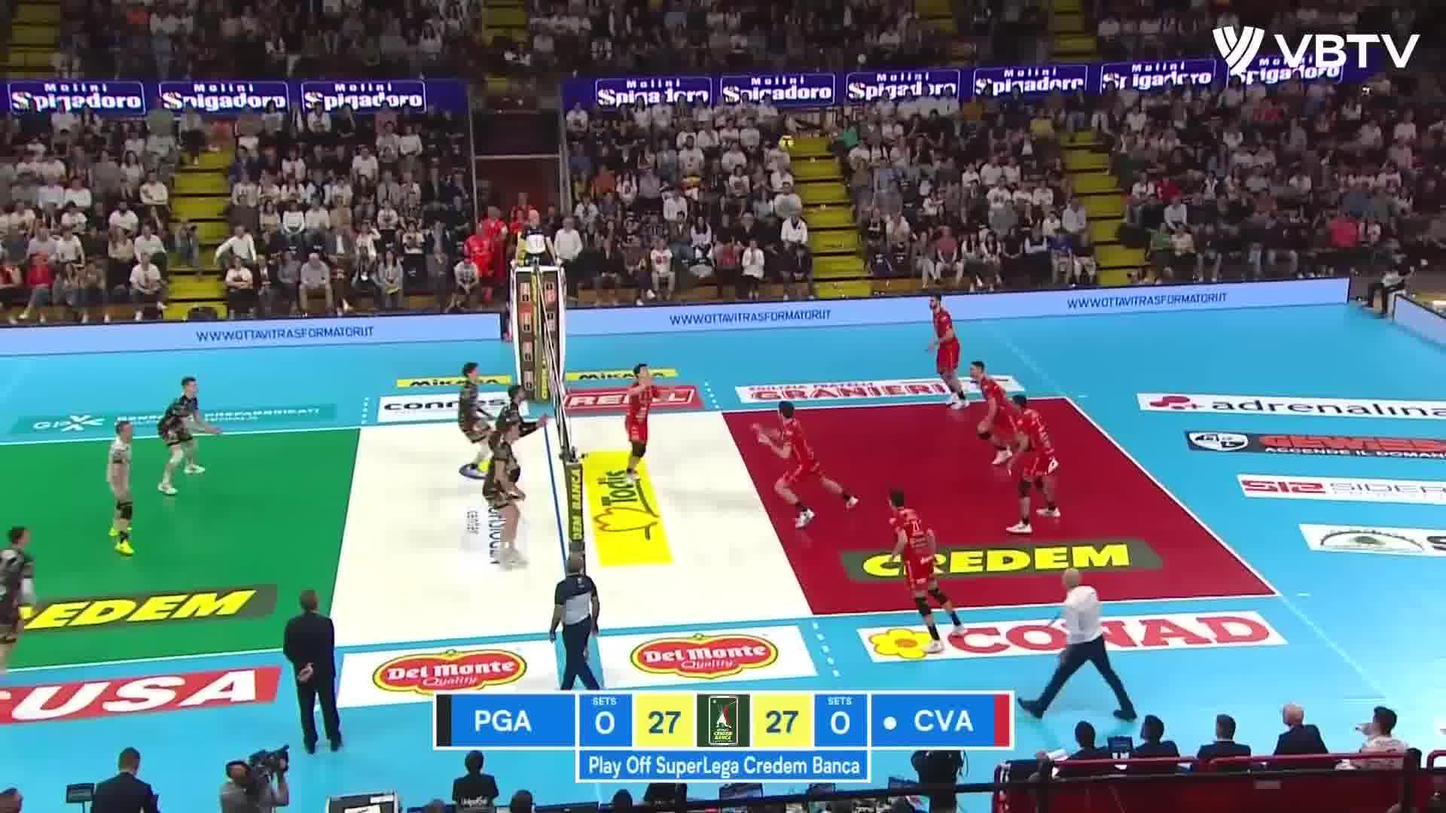balls: (777, 132, 797, 151)
